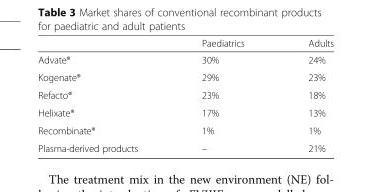table: (37, 37, 333, 153)
table column: (37, 37, 169, 153), (169, 37, 275, 153), (275, 37, 333, 153)
table column header: (37, 37, 333, 50)
table row: (37, 50, 333, 68), (37, 85, 333, 103), (37, 103, 333, 121), (37, 68, 333, 85), (37, 121, 333, 138), (37, 138, 333, 153), (37, 37, 333, 50)
